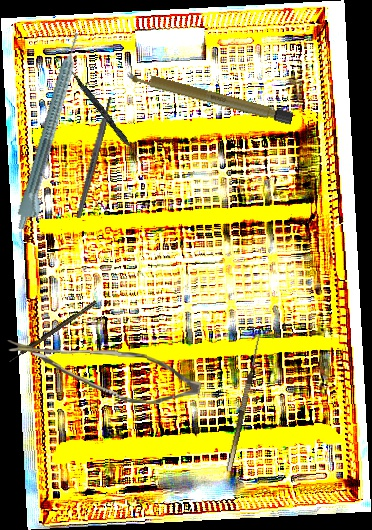Handpiece: (13, 30, 93, 234)
Hook Surgical: (218, 326, 265, 472), (7, 300, 98, 363)
Micro Scissor: (5, 339, 202, 406)
Scalpel Handle: (125, 68, 294, 125), (74, 96, 115, 219)
Spatula Surgical: (62, 63, 149, 168)
